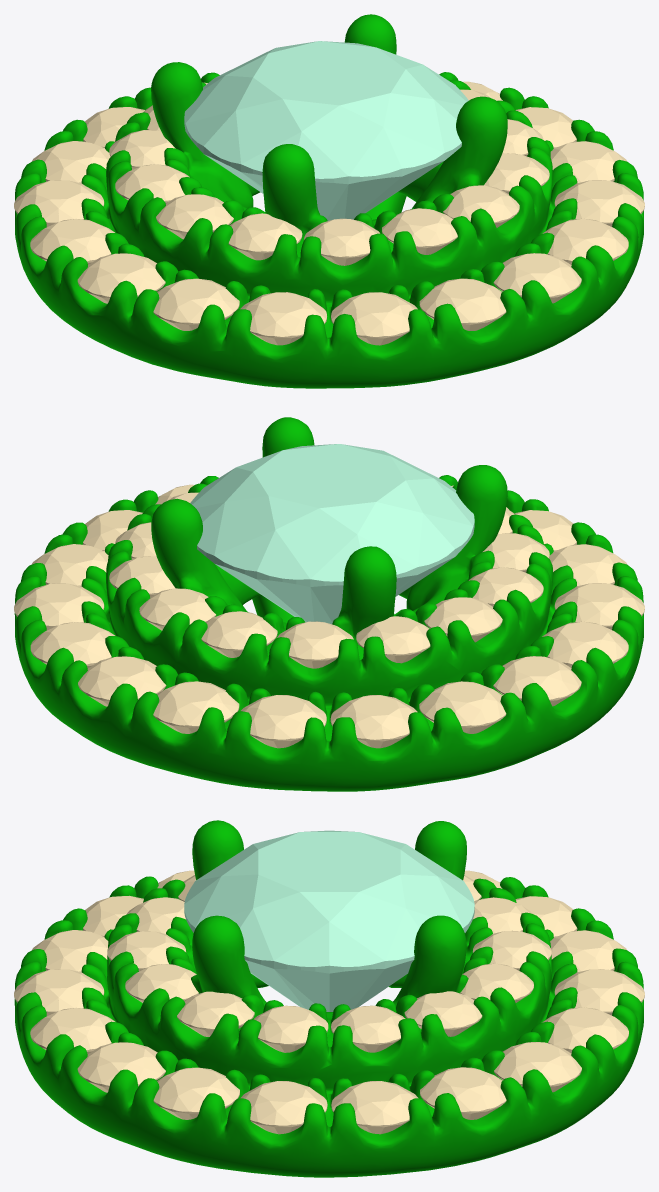
The picture shows the model from 3 angles, top to bottom: view 1: azimuth 30°, elevation 25°; view 2: azimuth 150°, elevation 25°; view 3: azimuth 270°, elevation 25°; orthographic projection.
Parts seen in each view (by area): view 1: Metal01, CS_Diamond, Diamond_Round.028, Diamond_Round.027, Diamond_Round.029, Diamond_Round.026, Diamond_Round.030, Diamond_Round.025, Diamond_Round.031, Diamond_Round.024, Diamond_Round.014, Diamond_Round.023 (+13 smaller); view 2: Metal01, CS_Diamond, Diamond_Round.016, Diamond_Round.015, Diamond_Round.017, Diamond_Round.014, Diamond_Round.031, Diamond_Round.018, Diamond_Round.030, Diamond_Round.019, Diamond_Round.029, Diamond_Round.020 (+13 smaller); view 3: Metal01, CS_Diamond, Diamond_Round.022, Diamond_Round.021, Diamond_Round.023, Diamond_Round.020, Diamond_Round.019, Diamond_Round.024, Diamond_Round.018, Diamond_Round.025, Diamond_Round.026, Diamond_Round.017 (+14 smaller).
Boxes of the visible parts, x1=… form: Metal01: x1=15, y1=14, x2=643, y2=388; CS_Diamond: x1=184, y1=41, x2=468, y2=220; Diamond_Round.028: x1=240, y1=292, x2=327, y2=345; Diamond_Round.027: x1=331, y1=292, x2=417, y2=345; Diamond_Round.029: x1=153, y1=278, x2=239, y2=330; Diamond_Round.026: x1=419, y1=278, x2=506, y2=330; Diamond_Round.030: x1=77, y1=253, x2=165, y2=303; Diamond_Round.025: x1=493, y1=253, x2=581, y2=303; Diamond_Round.031: x1=30, y1=219, x2=114, y2=264; Diamond_Round.024: x1=542, y1=218, x2=628, y2=264; Diamond_Round.014: x1=14, y1=180, x2=104, y2=226; Diamond_Round.023: x1=554, y1=180, x2=644, y2=226; Metal01: x1=14, y1=417, x2=643, y2=791; CS_Diamond: x1=190, y1=444, x2=474, y2=624; Diamond_Round.016: x1=241, y1=695, x2=326, y2=748; Diamond_Round.015: x1=330, y1=695, x2=417, y2=748; Diamond_Round.017: x1=153, y1=681, x2=239, y2=733; Diamond_Round.014: x1=419, y1=681, x2=506, y2=733; Diamond_Round.031: x1=493, y1=656, x2=581, y2=706; Diamond_Round.018: x1=78, y1=656, x2=166, y2=706; Diamond_Round.030: x1=542, y1=621, x2=628, y2=667; Diamond_Round.019: x1=30, y1=622, x2=115, y2=668; Diamond_Round.029: x1=554, y1=583, x2=644, y2=629; Diamond_Round.020: x1=14, y1=583, x2=104, y2=630; Metal01: x1=14, y1=820, x2=643, y2=1177; CS_Diamond: x1=184, y1=830, x2=474, y2=1011; Diamond_Round.022: x1=240, y1=1081, x2=327, y2=1134; Diamond_Round.021: x1=331, y1=1081, x2=418, y2=1134; Diamond_Round.023: x1=153, y1=1067, x2=239, y2=1119; Diamond_Round.020: x1=420, y1=1067, x2=506, y2=1119; Diamond_Round.019: x1=494, y1=1042, x2=581, y2=1092; Diamond_Round.024: x1=77, y1=1042, x2=165, y2=1092; Diamond_Round.018: x1=542, y1=1007, x2=628, y2=1053; Diamond_Round.025: x1=30, y1=1007, x2=115, y2=1053; Diamond_Round.026: x1=14, y1=969, x2=104, y2=1015; Diamond_Round.017: x1=554, y1=969, x2=644, y2=1015.
Bounding box in the file's own units: 11.19 × 5.75 × 11.19.
